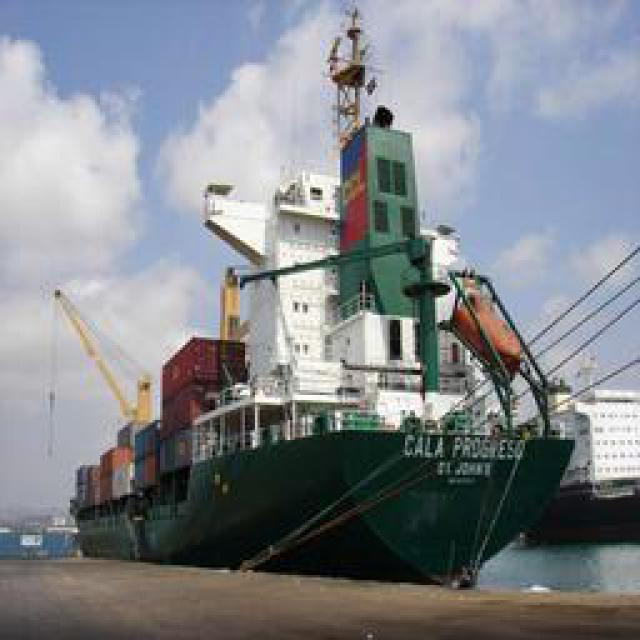Ship: (40, 90, 600, 580)
